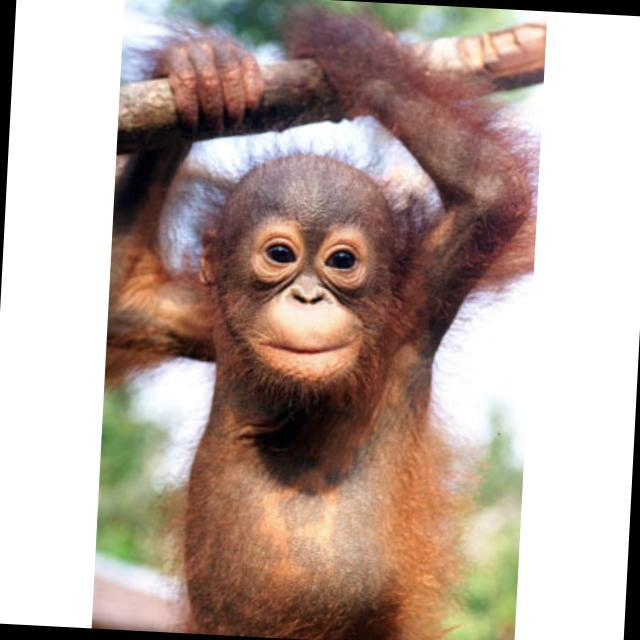Orangutan: (111, 17, 540, 640)
